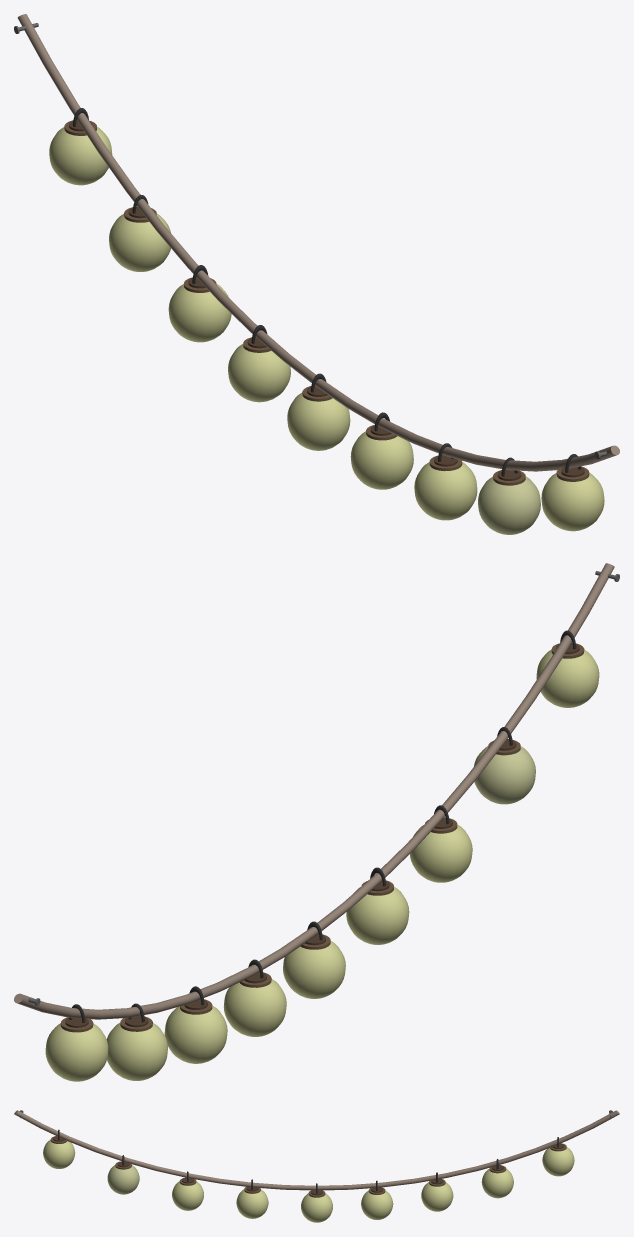
Rendered from colored decoration lights bedroom.fbx.
3 views of the same model, one above another, from view 1: azimuth 30°, elevation 25°; view 2: azimuth 150°, elevation 25°; view 3: azimuth 270°, elevation 25° (orthographic). The views are drawn at different scales.
Parts seen in each view (by area): view 1: pCylinder1, pSphere9, pSphere8, pSphere7, pSphere6, pSphere1, pSphere2, pSphere3, pSphere4, pSphere5, pCylinder29; view 2: pCylinder1, pSphere3, pSphere5, pSphere2, pSphere4, pSphere1, pSphere6, pSphere7, pSphere8, pSphere9, pCylinder29; view 3: pCylinder1, pSphere6, pSphere1, pSphere3, pSphere5, pSphere8, pSphere7, pSphere2, pSphere4, pSphere9, pCylinder29.
Part boxes in pixels (x1,y1,x2,y2): pCylinder1: [17, 14, 619, 471]; pSphere9: [541, 472, 604, 531]; pSphere8: [478, 476, 540, 534]; pSphere7: [414, 462, 477, 520]; pSphere6: [350, 431, 413, 489]; pSphere1: [287, 392, 350, 450]; pSphere2: [228, 344, 290, 402]; pSphere3: [168, 283, 231, 342]; pSphere4: [109, 213, 170, 271]; pSphere5: [49, 126, 112, 185]; pCylinder29: [69, 120, 584, 480]; pCylinder1: [14, 563, 614, 1019]; pSphere3: [164, 1005, 227, 1063]; pSphere5: [45, 1023, 108, 1081]; pSphere2: [223, 979, 286, 1036]; pSphere4: [106, 1023, 167, 1080]; pSphere1: [283, 941, 345, 998]; pSphere6: [346, 886, 409, 944]; pSphere7: [410, 824, 472, 882]; pSphere8: [474, 746, 535, 804]; pSphere9: [536, 649, 599, 707]; pCylinder29: [65, 643, 579, 1027]; pCylinder1: [14, 1110, 619, 1190]; pSphere6: [236, 1189, 268, 1218]; pSphere1: [301, 1193, 332, 1222]; pSphere3: [421, 1182, 453, 1211]; pSphere5: [542, 1147, 574, 1176]; pSphere8: [107, 1165, 139, 1194]; pSphere7: [172, 1181, 203, 1210]; pSphere2: [361, 1190, 393, 1219]; pSphere4: [481, 1168, 513, 1198]; pSphere9: [43, 1139, 75, 1168]; pCylinder29: [53, 1136, 564, 1195].
Bounding box in the file's own units: 0.0929 × 0.3522 × 1.75.
